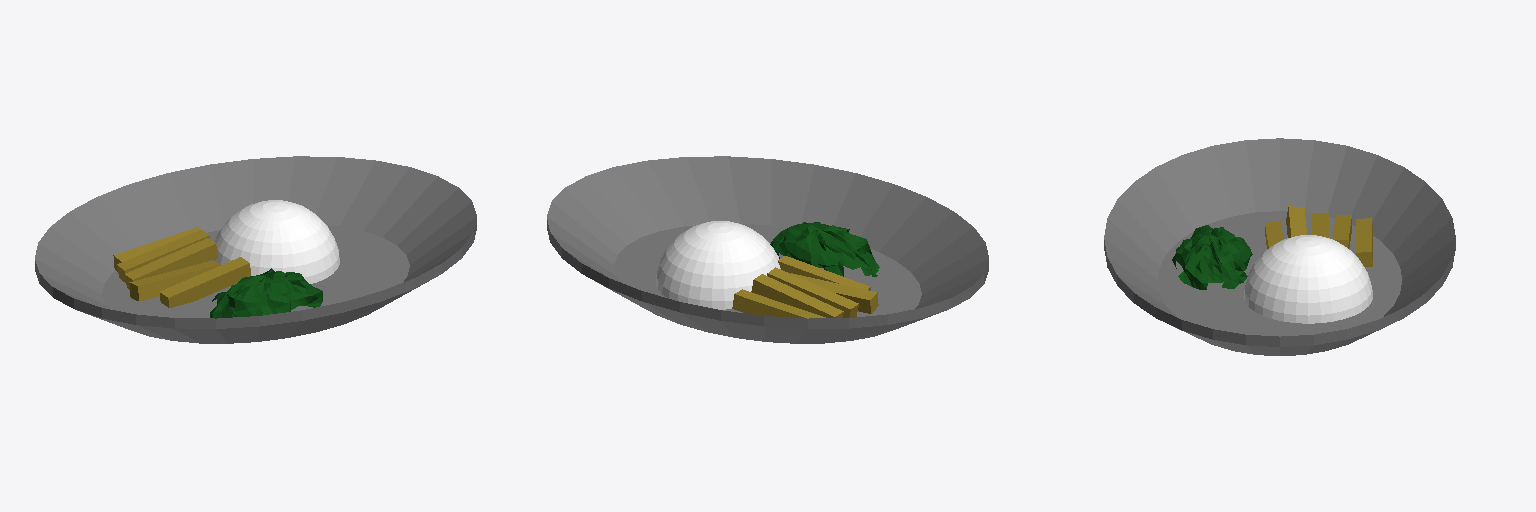
Rendered from rice1_meat2_veg1.obj.
The picture shows the model from 3 angles: view 1: azimuth 30°, elevation 25°; view 2: azimuth 150°, elevation 25°; view 3: azimuth 270°, elevation 25°; orthographic projection.
Parts seen in each view (by area): view 1: Cylinder, Sphere, Sphere.001, Cube.004_Cube.005, Cube.001_Cube.002, Cube.002_Cube.003, Cube_Cube.001, Cube.003_Cube.004; view 2: Cylinder, Sphere, Sphere.001, Cube_Cube.001, Cube.003_Cube.004, Cube.001_Cube.002, Cube.002_Cube.003, Cube.004_Cube.005; view 3: Cylinder, Sphere, Sphere.001, Cube.003_Cube.004, Cube.002_Cube.003.
Part boxes in pixels (x1,y1,x2,y2): Cylinder: (35, 156, 476, 343); Sphere: (212, 200, 339, 283); Sphere.001: (210, 268, 322, 318); Cube.004_Cube.005: (160, 257, 250, 307); Cube.001_Cube.002: (125, 238, 218, 289); Cube.002_Cube.003: (129, 261, 220, 301); Cube_Cube.001: (117, 230, 209, 282); Cube.003_Cube.004: (113, 227, 200, 271); Cylinder: (547, 156, 988, 343); Sphere: (656, 221, 780, 309); Sphere.001: (770, 222, 879, 276); Cube_Cube.001: (751, 274, 843, 317); Cube.003_Cube.004: (732, 289, 825, 318); Cube.001_Cube.002: (767, 267, 858, 317); Cube.002_Cube.003: (791, 273, 878, 313); Cube.004_Cube.005: (778, 256, 870, 290); Cylinder: (1104, 138, 1455, 355); Sphere: (1243, 235, 1372, 323); Sphere.001: (1172, 225, 1252, 289); Cube.003_Cube.004: (1356, 218, 1372, 266); Cube.002_Cube.003: (1286, 206, 1306, 237).
Bounding box in the file's own units: 5.75 × 0.85 × 4.31.